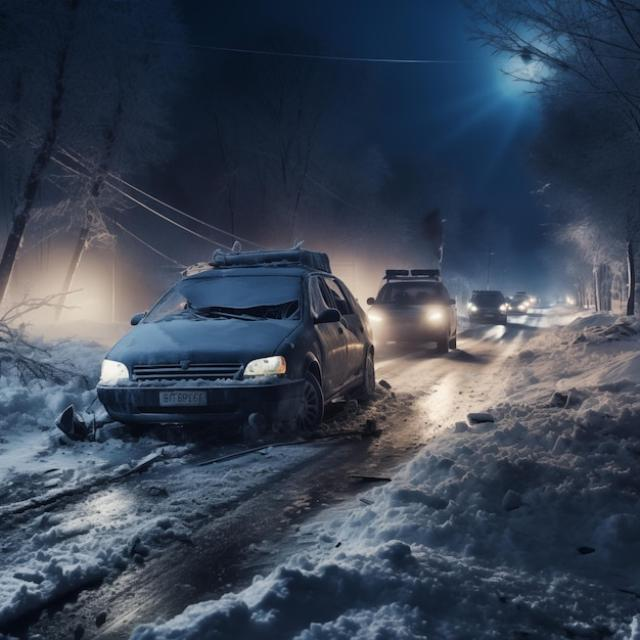Accident: (76, 245, 380, 452)
